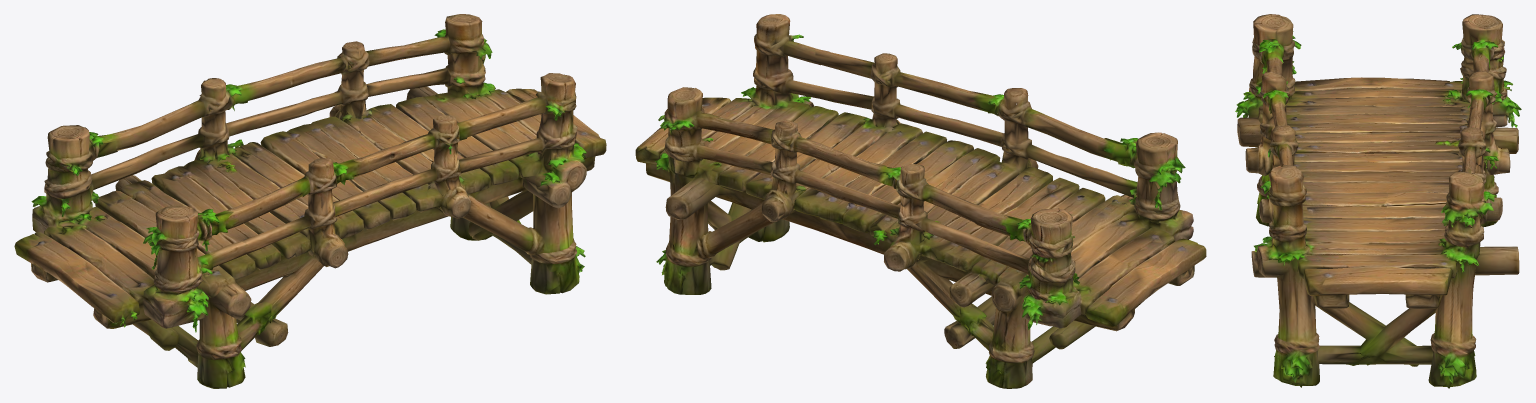
Rendered from bridge.glb.
3 renders of one model, left to right at view 1: azimuth 30°, elevation 25°; view 2: azimuth 150°, elevation 25°; view 3: azimuth 270°, elevation 25°, orthographic. The views are drawn at different scales.
Visible parts, largest first — view 1: tripo_node_5dc5d426-7535-4773-bc90-c90aa7d2c00c; view 2: tripo_node_5dc5d426-7535-4773-bc90-c90aa7d2c00c; view 3: tripo_node_5dc5d426-7535-4773-bc90-c90aa7d2c00c.
Part boxes in pixels (left/top/right/bottom): tripo_node_5dc5d426-7535-4773-bc90-c90aa7d2c00c: left=14, top=14, right=606, bottom=388; tripo_node_5dc5d426-7535-4773-bc90-c90aa7d2c00c: left=635, top=14, right=1206, bottom=388; tripo_node_5dc5d426-7535-4773-bc90-c90aa7d2c00c: left=1235, top=14, right=1521, bottom=388.
Size of the model in its own units: 0.9811 by 0.4041 by 0.4932.
1 material, 1 textured.
